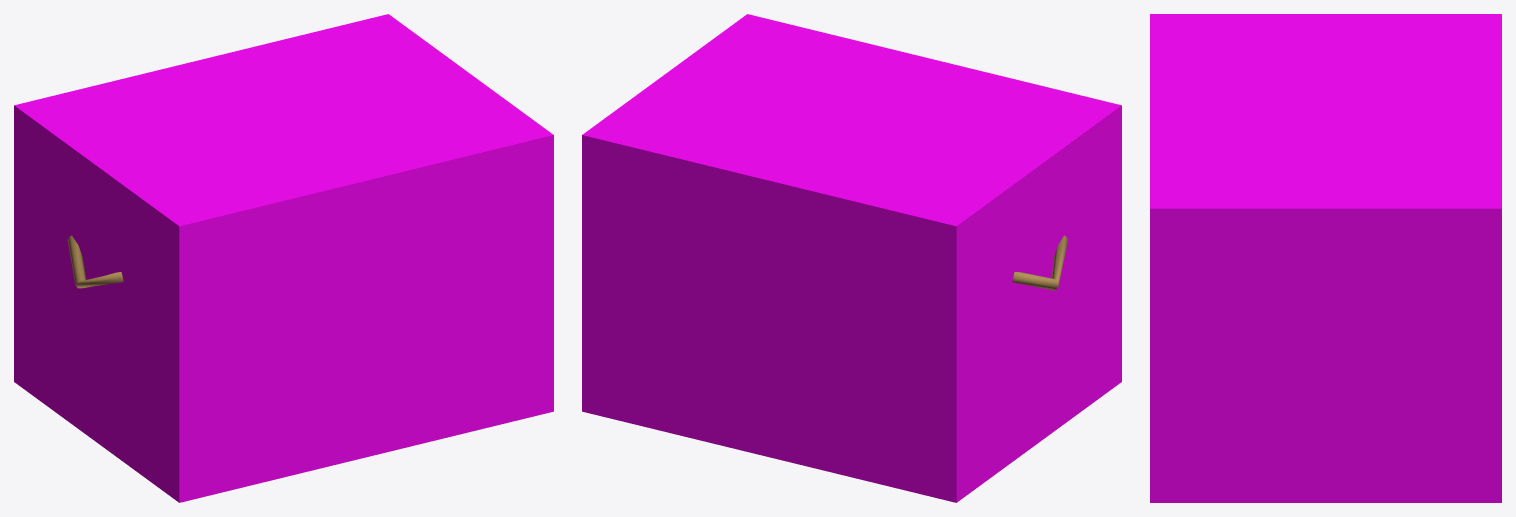
The model's file is PRP_Crate_A.glb.
3 renders of one model, left to right at view 1: azimuth 30°, elevation 25°; view 2: azimuth 150°, elevation 25°; view 3: azimuth 270°, elevation 25°, orthographic. The views are drawn at different scales.
Visible parts, largest first — view 1: COL_Crate, PRP_Crate_A_Mesh; view 2: COL_Crate, PRP_Crate_A_Mesh; view 3: COL_Crate.
Boxes of the visible parts, x1,y1,x2,y2 form: COL_Crate: [14, 14, 553, 502]; PRP_Crate_A_Mesh: [67, 235, 123, 288]; COL_Crate: [582, 14, 1121, 502]; PRP_Crate_A_Mesh: [1012, 235, 1068, 290]; COL_Crate: [1150, 14, 1501, 502].
Size of the model in its own units: 0.8961 by 0.6 by 0.65.
